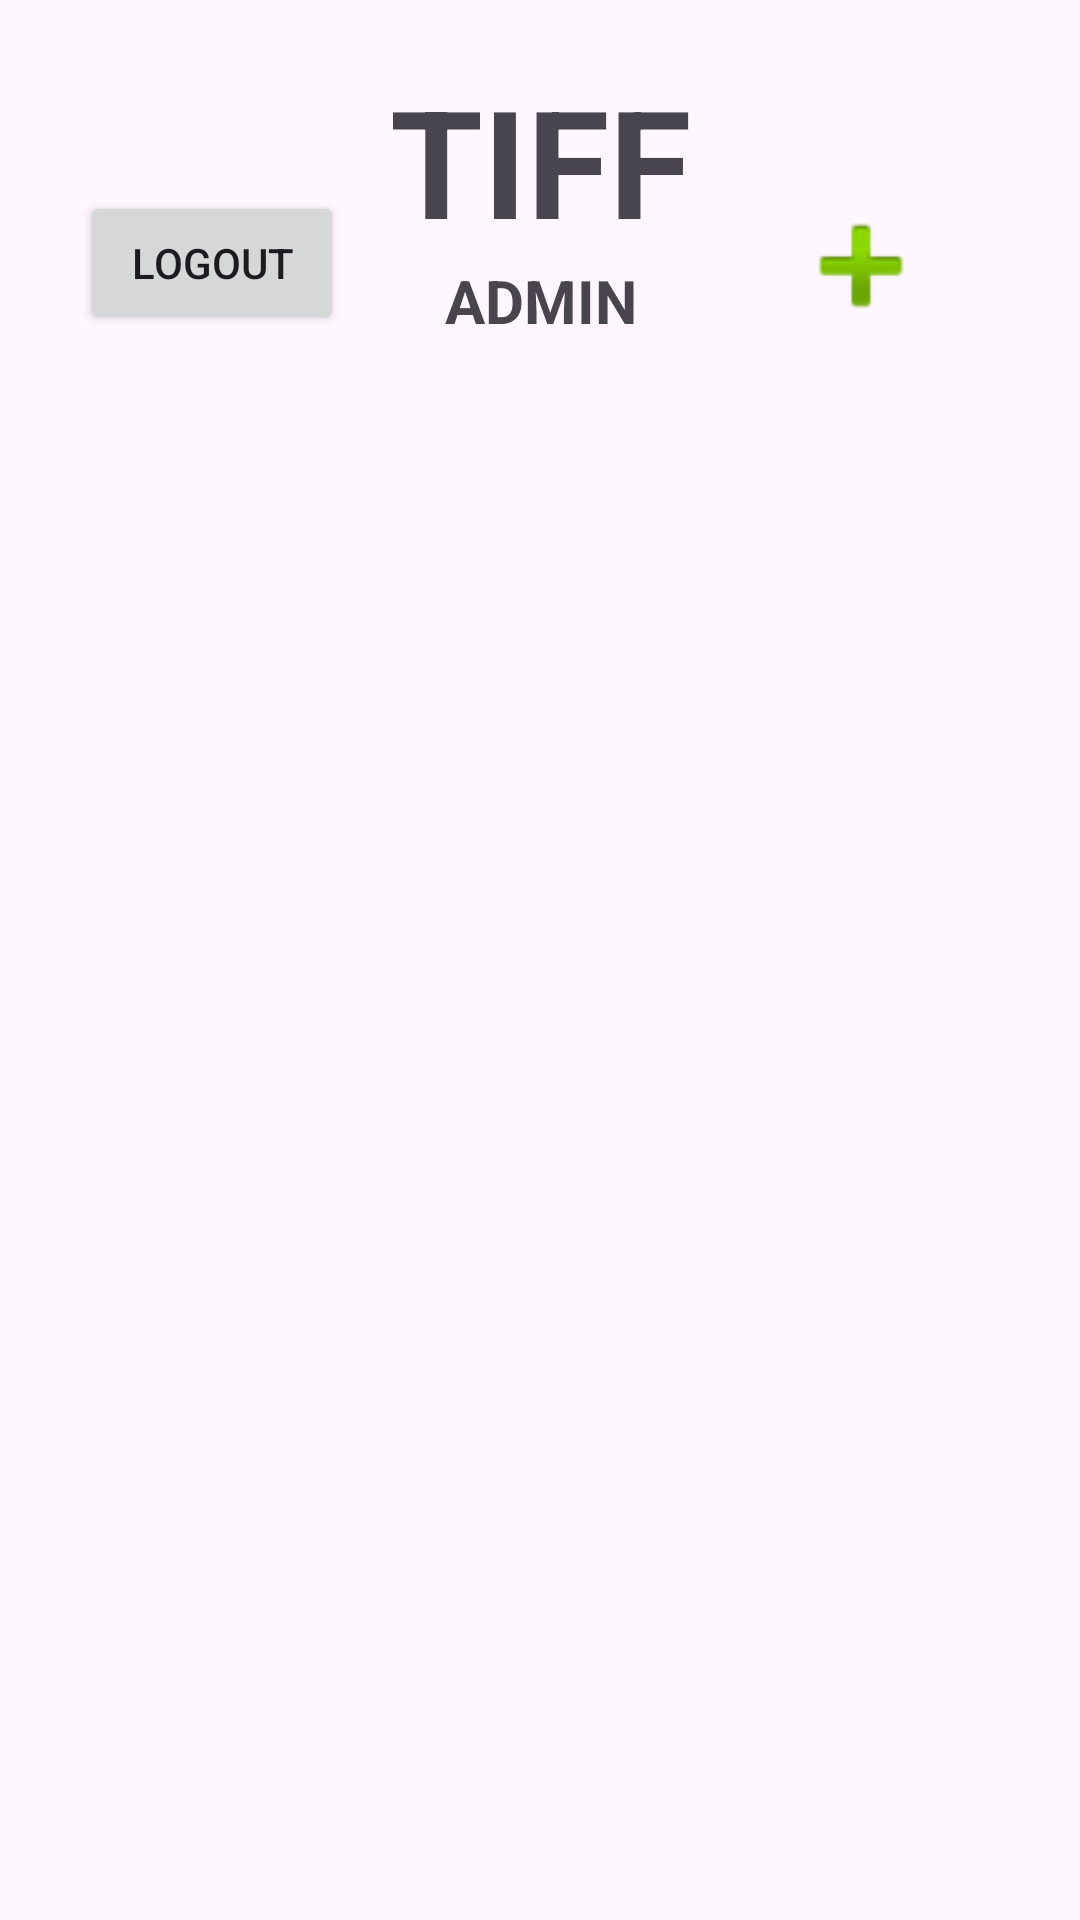

Screen size 1080px×1920px. Icon name, then its box in pixels as (x1, y1, x2, y2):
add: (818, 223, 904, 309)
